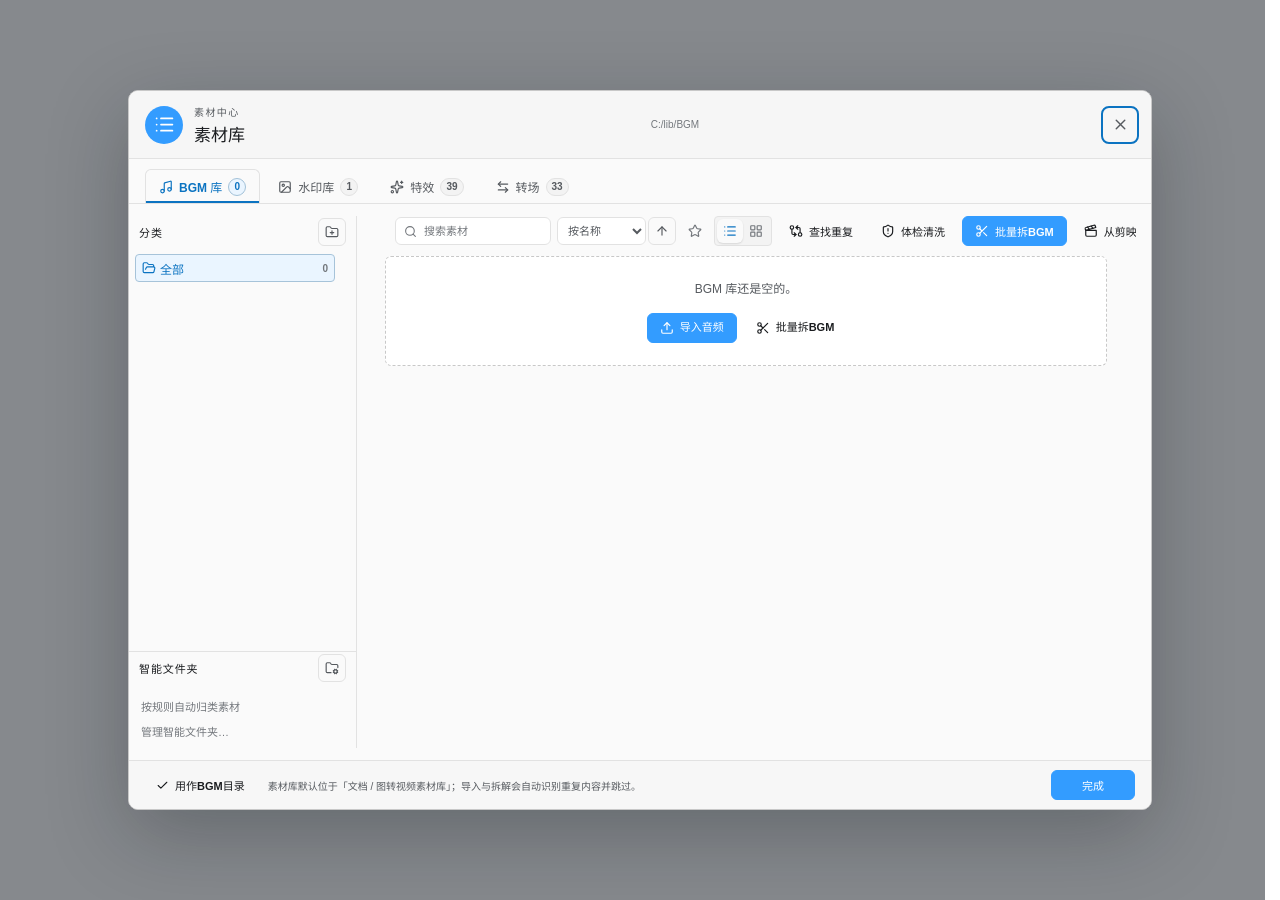
Test case: 删除确认与图片预览 › 取消确认时不删除
This screenshot has width=1280, height=900.
Click the tab "水印库 1" at (318, 186), box [264,169,372,203]
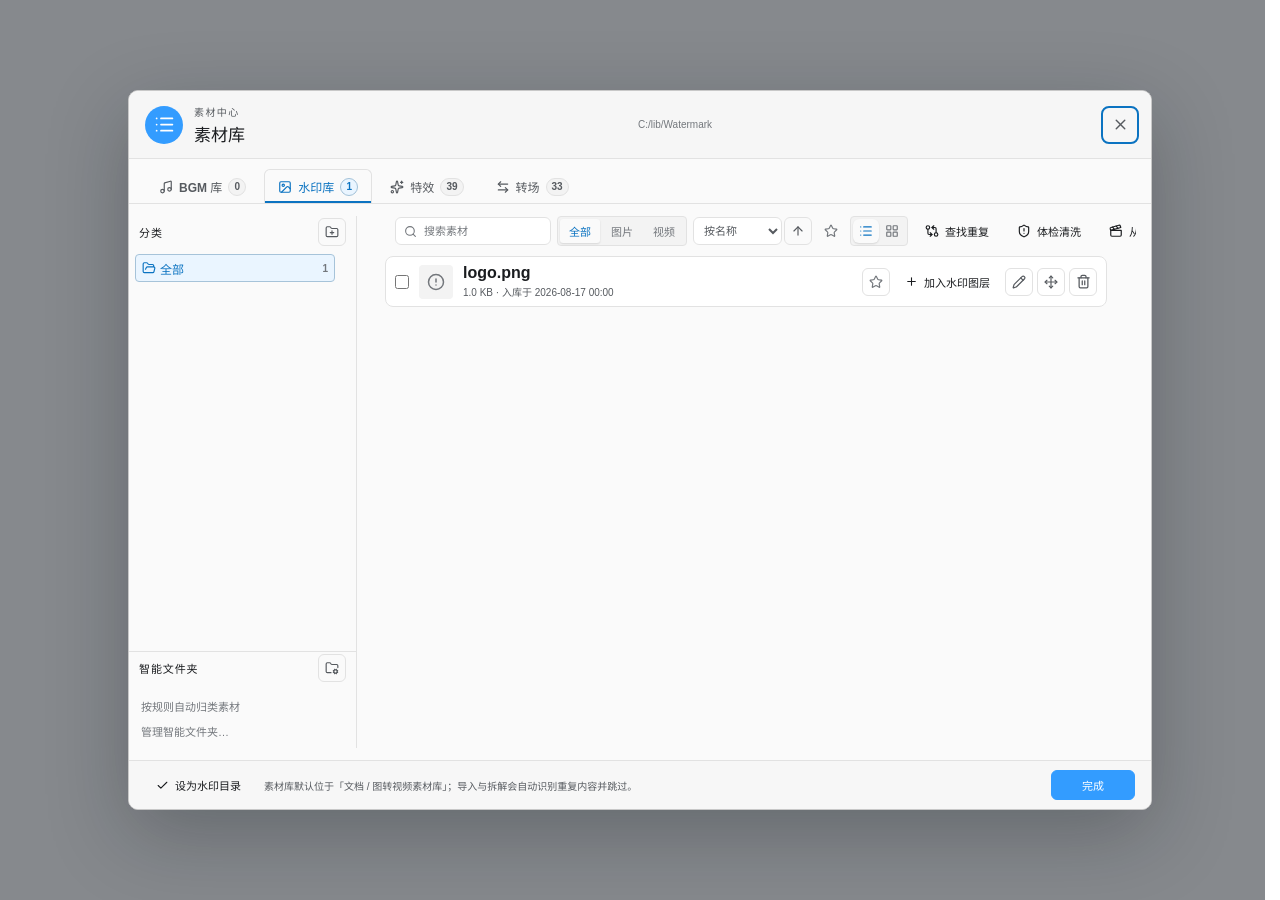
Click the button named "删除 logo.png" at (1083, 282), box [1069,268,1097,296]
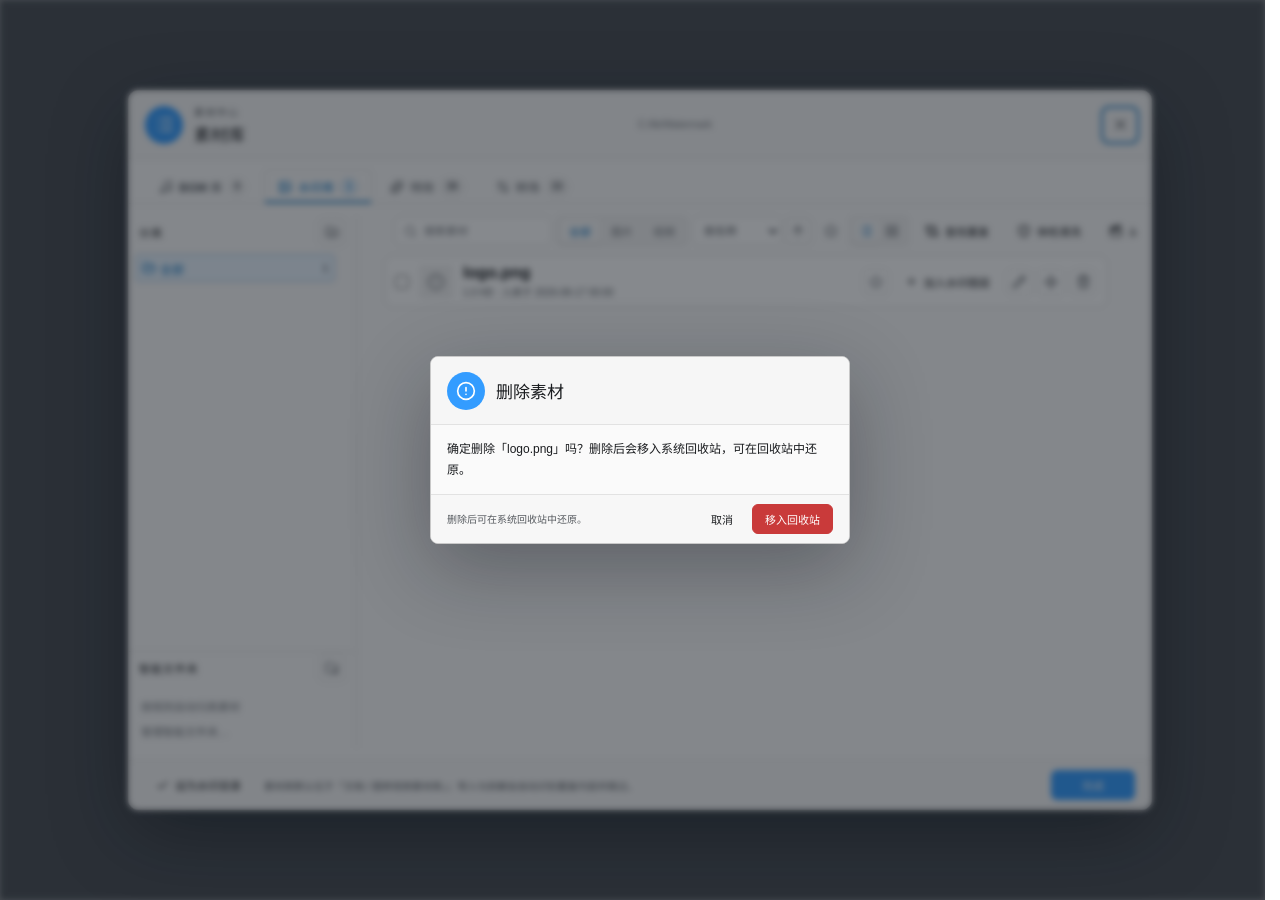
expect the dialog with class "library-confirm-dialog" is shown: met, box [430,356,850,544]
Click the button "取消" at (722, 519), box [700,504,744,534]
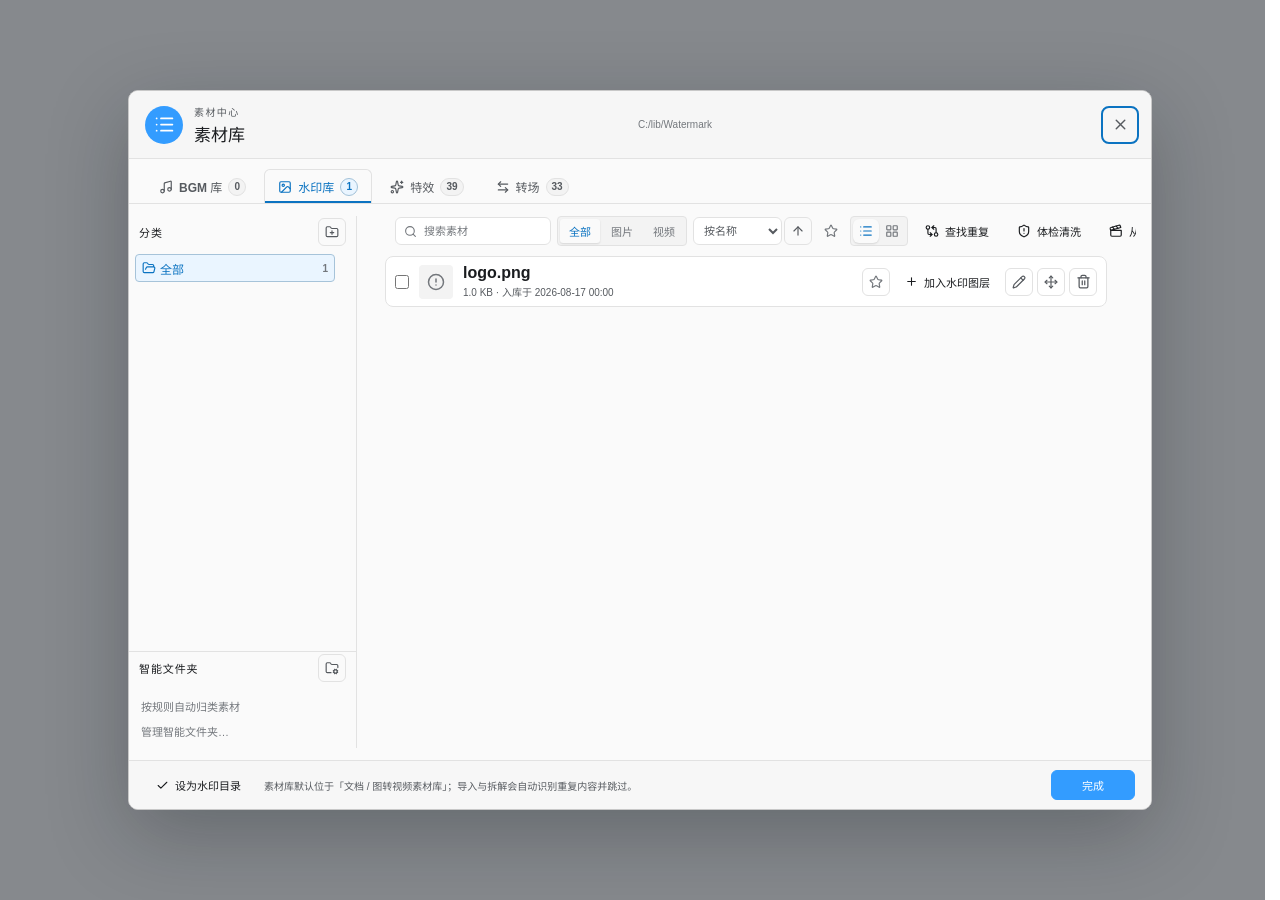
expect the dialog with class "library-confirm-dialog" is gone: met
